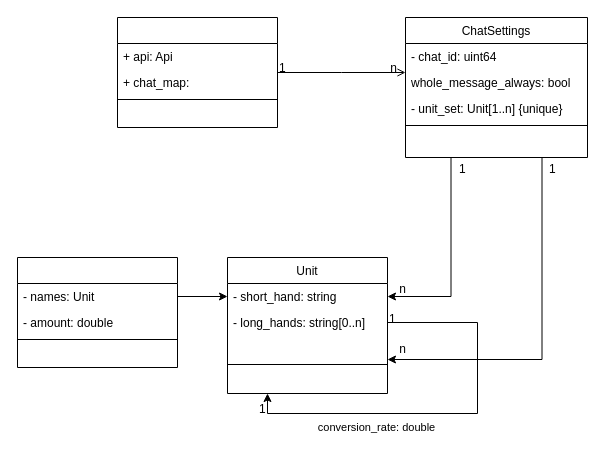
Image size: 605x451. Some labels were removed from this diagram. The box of each missing label's shape, as (x1, y1, x2, y2) in pixels:
AmountUnit: (16, 256, 178, 368)
AutoConvertBot: (116, 16, 278, 128)
